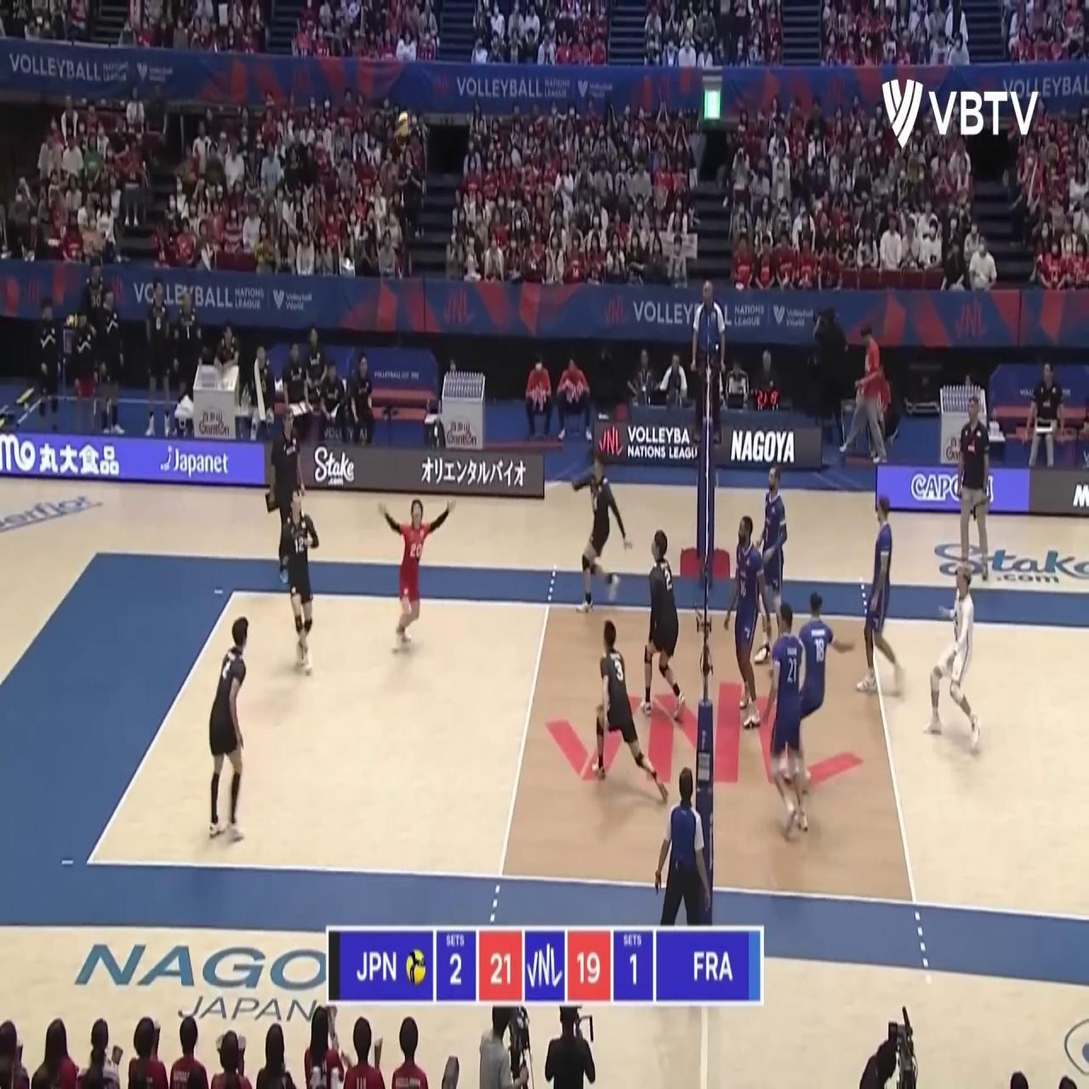ball: (397, 110, 412, 138)
